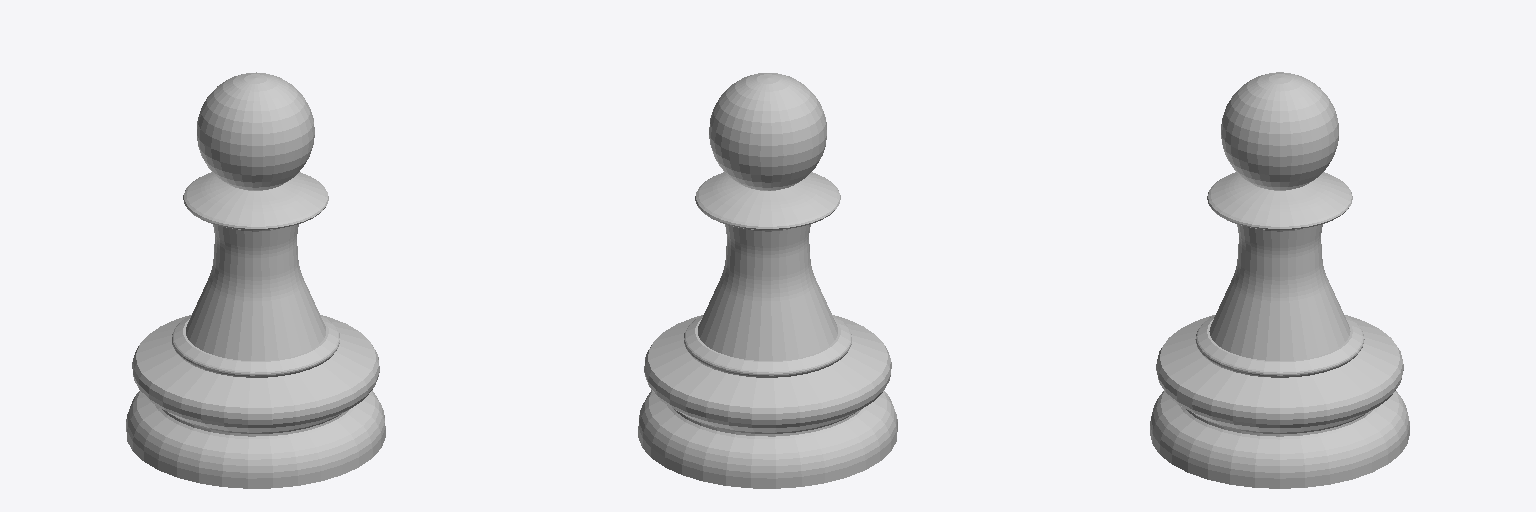
File: pawn.obj
The picture shows the model from 3 angles: view 1: azimuth 30°, elevation 25°; view 2: azimuth 150°, elevation 25°; view 3: azimuth 270°, elevation 25°; orthographic projection.
Visible parts, largest first — view 1: Dark_Pawn_6_Cylinder.021; view 2: Dark_Pawn_6_Cylinder.021; view 3: Dark_Pawn_6_Cylinder.021.
Part boxes in pixels (left/top/right/bottom): Dark_Pawn_6_Cylinder.021: left=126, top=72, right=385, bottom=488; Dark_Pawn_6_Cylinder.021: left=638, top=73, right=897, bottom=488; Dark_Pawn_6_Cylinder.021: left=1150, top=72, right=1409, bottom=488.
Size of the model in its own units: 1.15 by 1.73 by 1.15.